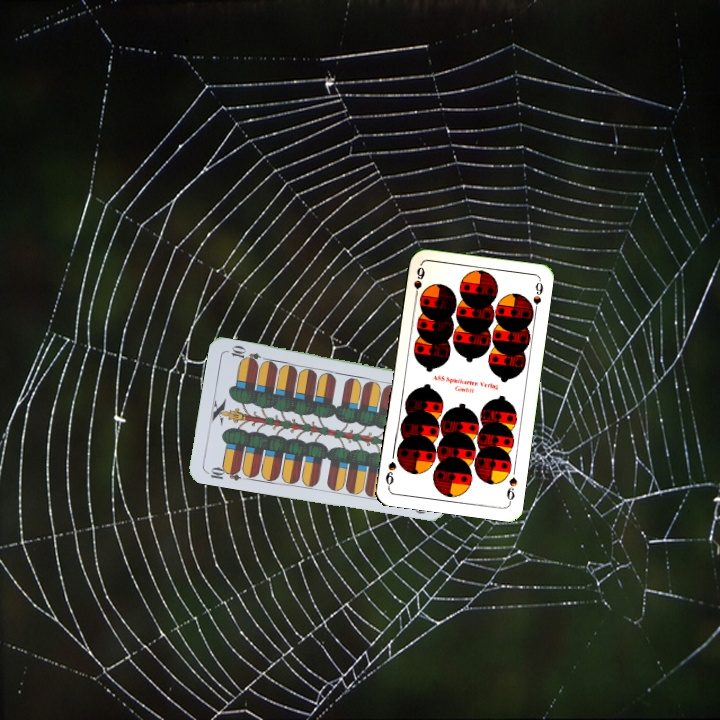E10: (202, 463, 243, 483)
S9: (410, 263, 427, 303), (502, 473, 519, 506)
